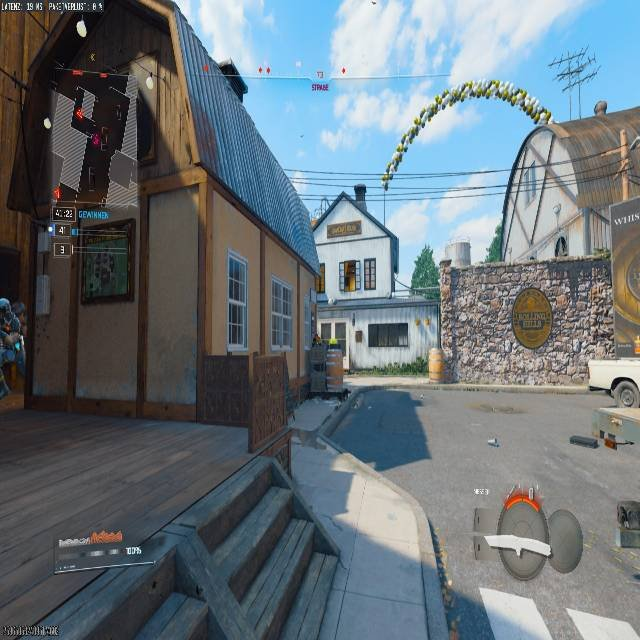head: (0, 297, 12, 318)
player: (0, 295, 25, 411)
